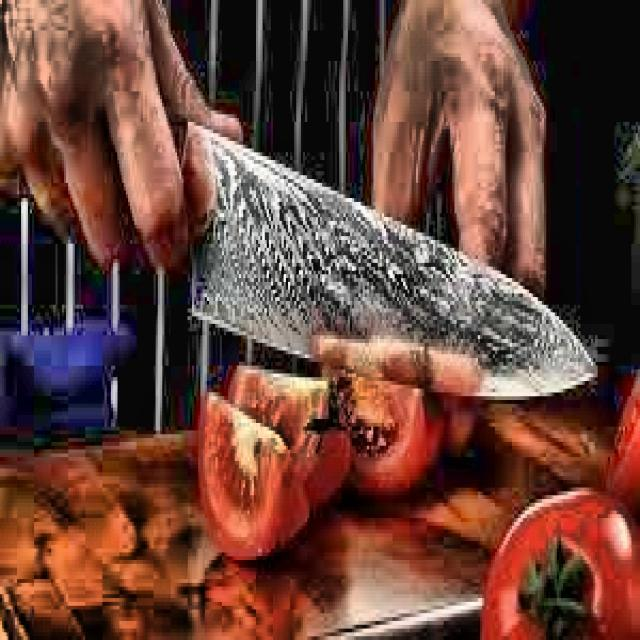knife: (163, 107, 596, 400)
